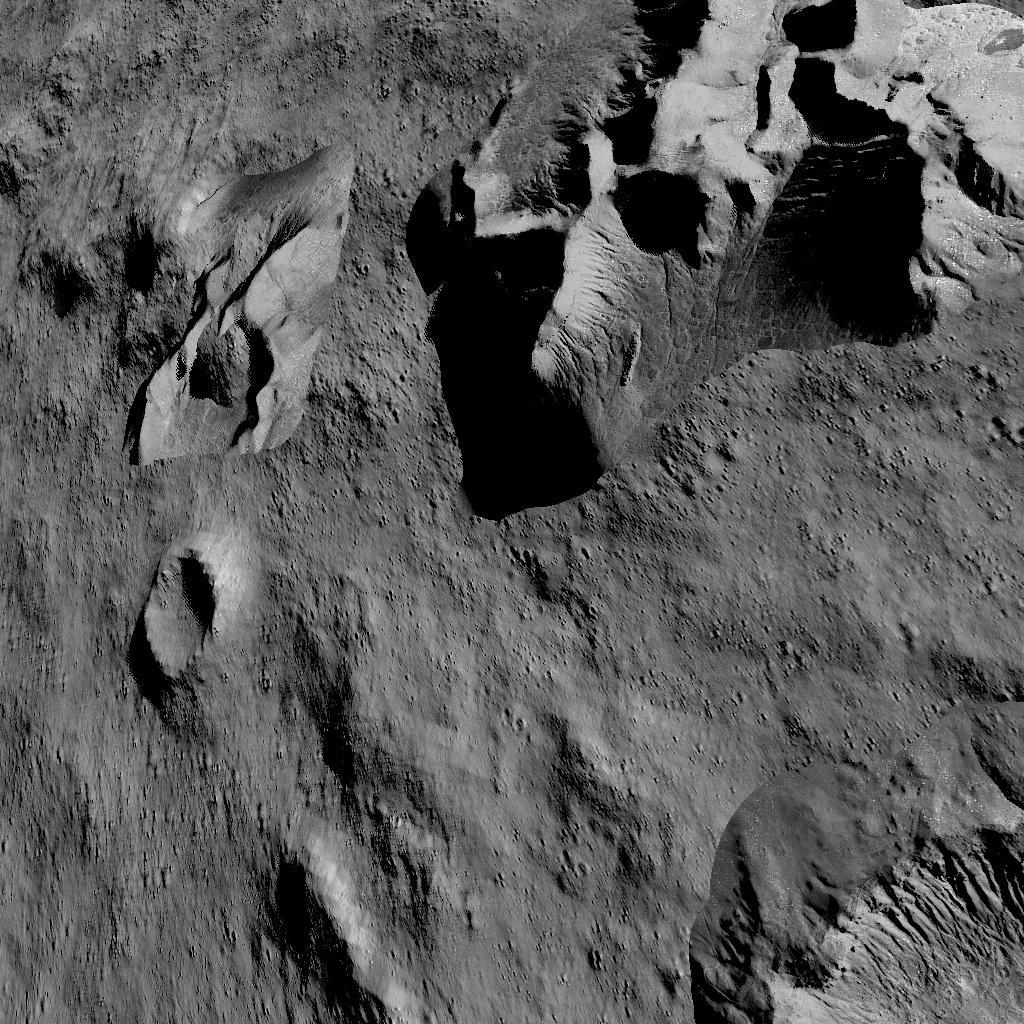Boulders: (395, 0, 1024, 521), (55, 150, 347, 468)
Crater: (684, 779, 1024, 1024), (124, 530, 230, 704)
Plan surface: (401, 532, 1024, 768), (1, 726, 237, 1024), (401, 776, 672, 1024), (3, 0, 381, 140)
